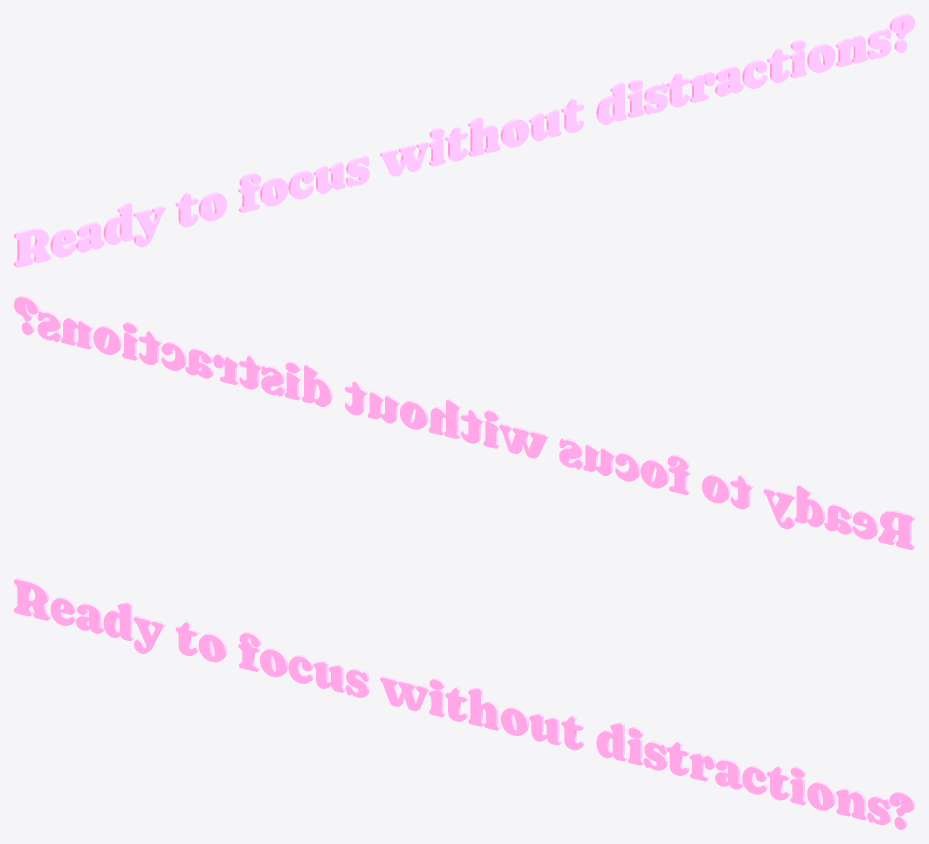
File: readyText.glb
The picture shows the model from 3 angles, top to bottom: view 1: azimuth 30°, elevation 25°; view 2: azimuth 150°, elevation 25°; view 3: azimuth 330°, elevation 25°; orthographic projection.
Visible parts, largest first — view 1: Text; view 2: Text; view 3: Text.
Boxes of the visible parts, x1,y1,x2,y2 form: Text: [14, 14, 914, 267]; Text: [14, 296, 914, 549]; Text: [14, 578, 914, 829].
Bounding box in the file's own units: 6.37 × 0.315 × 0.0244.
